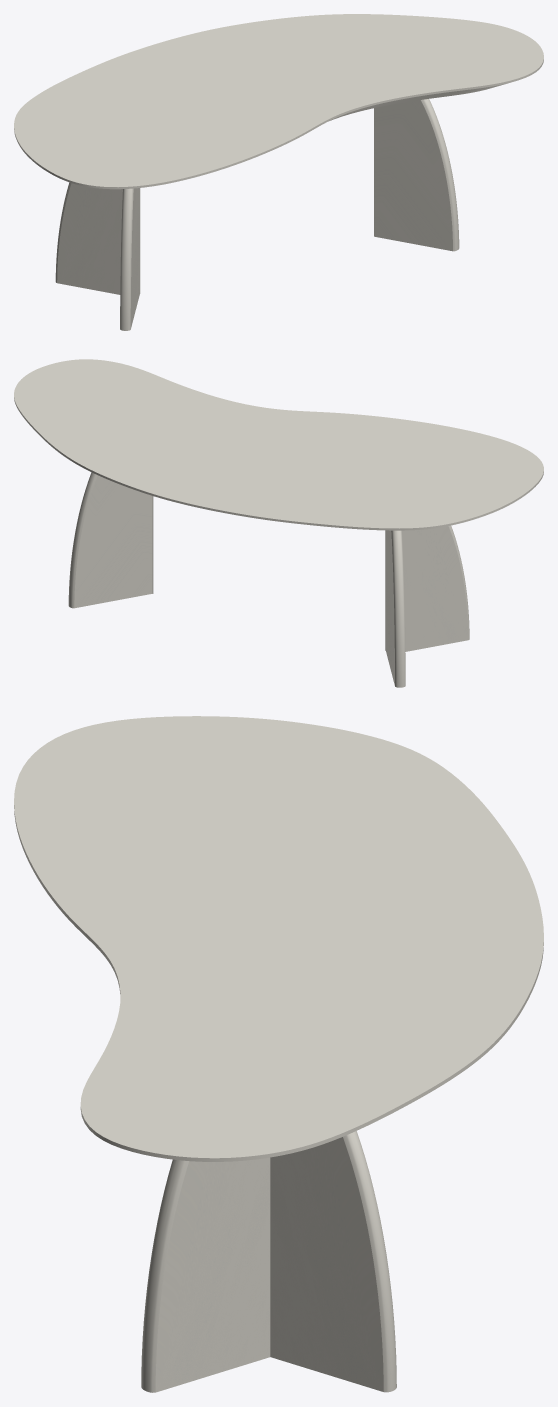
Rendered from pale_leaf1_facet_newtable2.glb.
3 renders of one model, top to bottom at view 1: azimuth 30°, elevation 25°; view 2: azimuth 150°, elevation 25°; view 3: azimuth 270°, elevation 25°, orthographic. The views are drawn at different scales.
Visible parts, largest first — view 1: facet_leaf1, newtable2_singleright2, newtable2_singleleft1, newtable2_singleright1; view 2: facet_leaf1, newtable2_singleleft2, newtable2_singleright1, newtable2_singleleft1; view 3: facet_leaf1, newtable2_singleleft2, newtable2_singleright2.
Boxes of the visible parts, bbox=[...] form: facet_leaf1: bbox=[14, 14, 543, 189]; newtable2_singleright2: bbox=[374, 99, 459, 251]; newtable2_singleleft1: bbox=[55, 182, 140, 294]; newtable2_singleright1: bbox=[120, 188, 139, 330]; facet_leaf1: bbox=[14, 359, 543, 530]; newtable2_singleleft2: bbox=[68, 472, 152, 608]; newtable2_singleright1: bbox=[385, 525, 469, 651]; newtable2_singleleft1: bbox=[386, 530, 405, 687]; facet_leaf1: bbox=[14, 716, 543, 1161]; newtable2_singleleft2: bbox=[270, 1131, 396, 1392]; newtable2_singleright2: bbox=[141, 1157, 270, 1392].
Size of the model in its own units: 7.5 by 2.49 by 3.8.
Materials: 1 (1 with a texture image).
